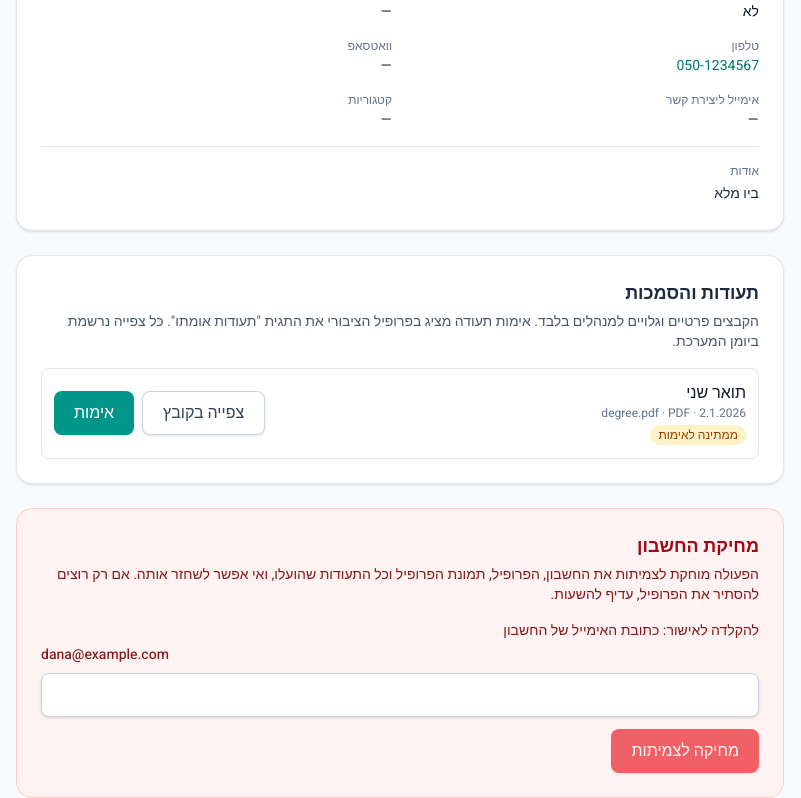
Test: AdminTherapistPage: certificates › verifies a certificate and then offers to cancel the verification
(page scrolled)
Click the button "אימות". click: (94, 413)
box: top-left (54, 391), bottom-right (134, 435)
(page scrolled)
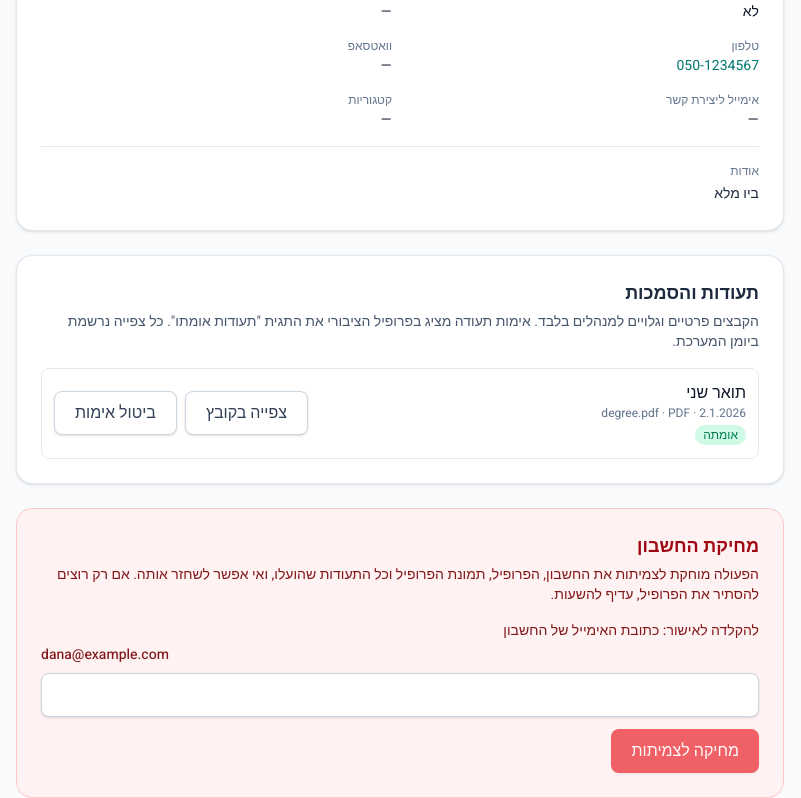
Expected: the button "ביטול אימות" is shown, top-left (54, 391), bottom-right (177, 435)
Expected: the text "אומתה" is shown, top-left (695, 425), bottom-right (746, 445)
